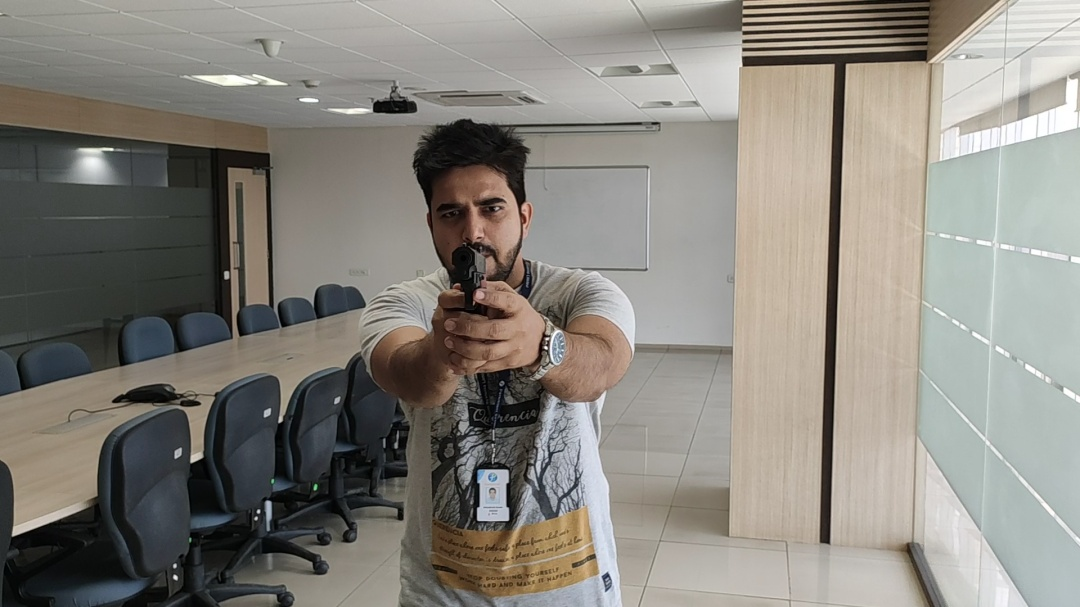gun: (442, 234, 496, 290)
